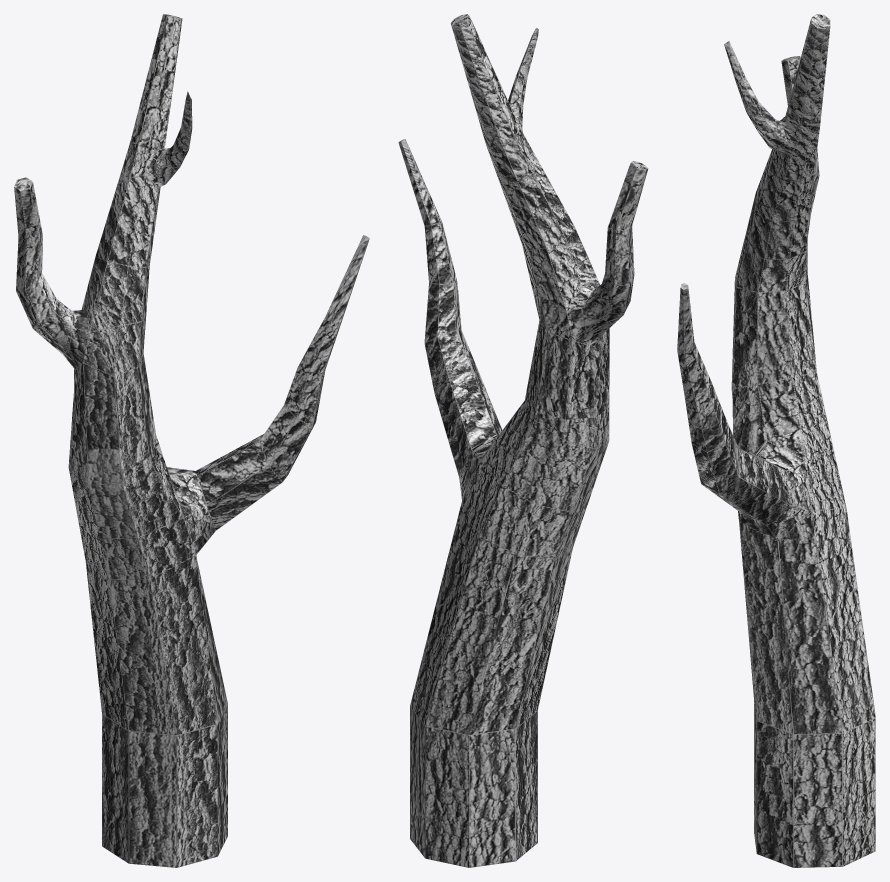
Rendered from DeadTree_1.fbx.
3 renders of one model, left to right at view 1: azimuth 30°, elevation 25°; view 2: azimuth 150°, elevation 25°; view 3: azimuth 270°, elevation 25°, orthographic.
Visible parts, largest first — view 1: Dead_Tree_2; view 2: Dead_Tree_2; view 3: Dead_Tree_2.
Part boxes in pixels (left/top/right/bottom): Dead_Tree_2: left=14, top=14, right=369, bottom=867; Dead_Tree_2: left=398, top=14, right=648, bottom=867; Dead_Tree_2: left=677, top=14, right=875, bottom=867.
Bounding box in the file's own units: 25.11 × 65.68 × 14.25.
1 material, 1 textured.
